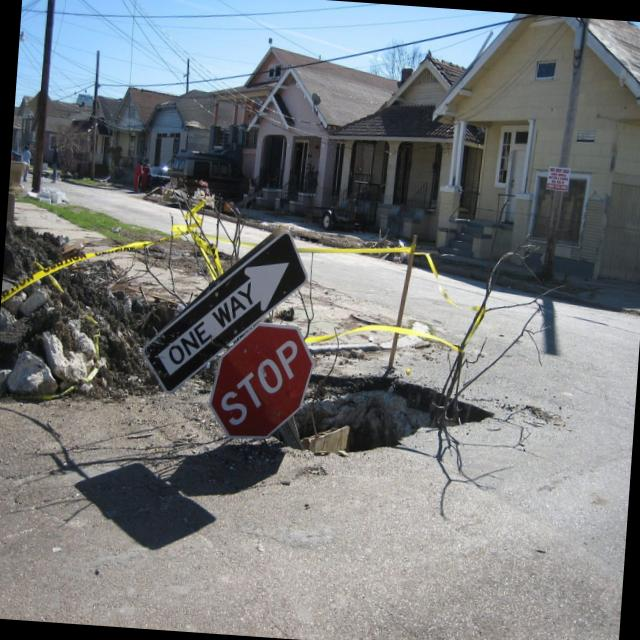Potholes: (225, 337, 512, 504)
